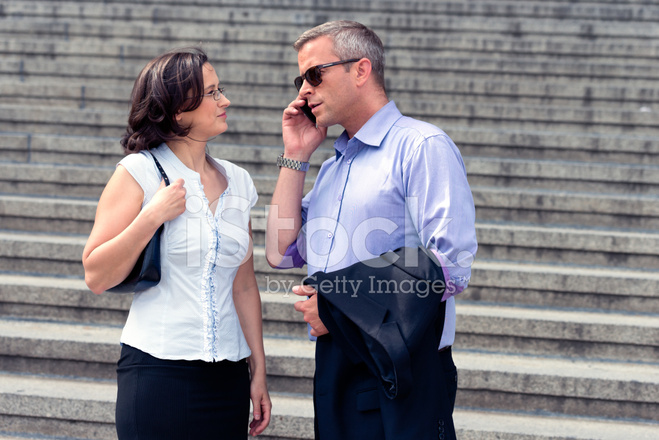phone: (293, 84, 319, 132)
